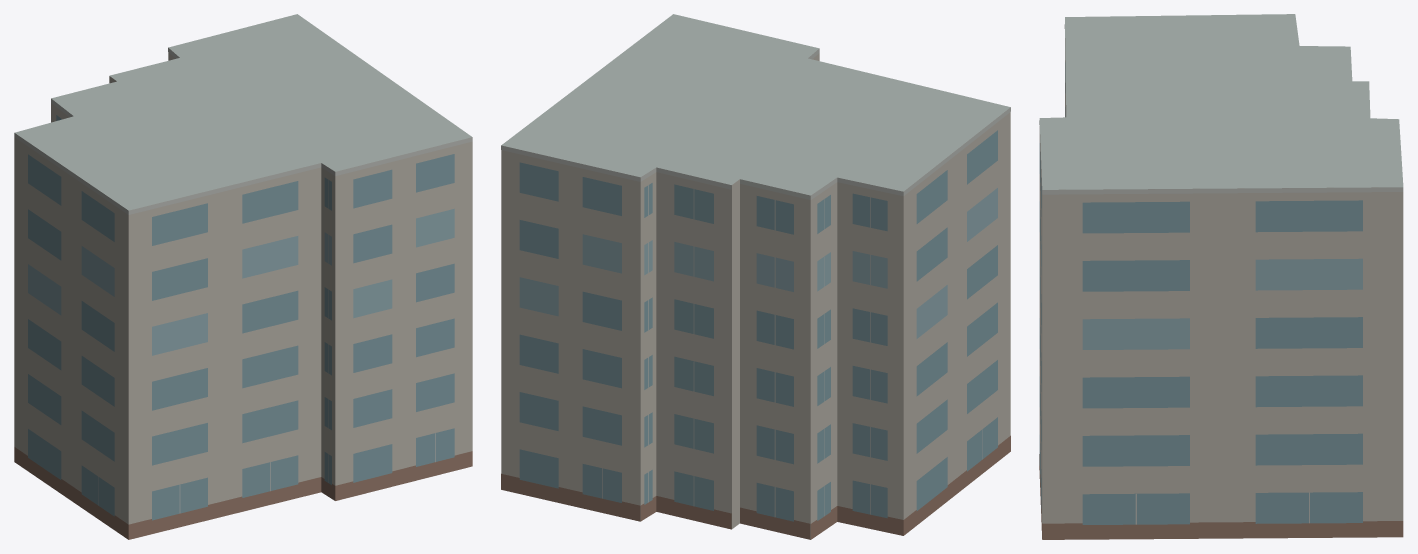
The model's file is survey-upis-32493943.glb.
3 renders of one model, left to right at view 1: azimuth 30°, elevation 25°; view 2: azimuth 150°, elevation 25°; view 3: azimuth 270°, elevation 25°, orthographic. The views are drawn at different scales.
Parts seen in each view (by area): view 1: survey-upis-32493943.tmp; view 2: survey-upis-32493943.tmp; view 3: survey-upis-32493943.tmp.
Boxes of the visible parts, <box> form: survey-upis-32493943.tmp: <box>14,14,472,539</box>; survey-upis-32493943.tmp: <box>501,14,1010,539</box>; survey-upis-32493943.tmp: <box>1039,14,1403,539</box>.
Bounding box in the file's own units: 19.63 × 18.2 × 17.16.
